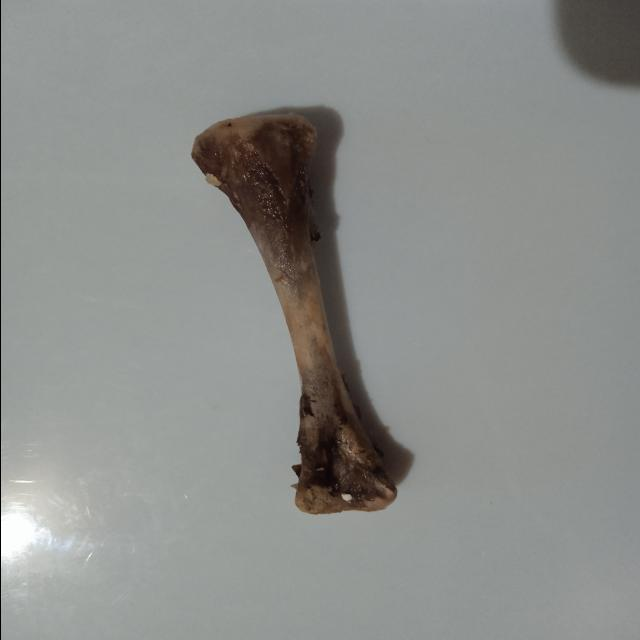bone: (186, 104, 403, 518)
